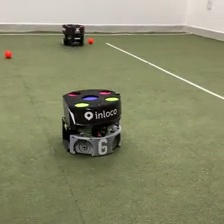ball: (3, 49, 12, 59), (87, 36, 94, 44)
robot: (60, 87, 122, 159), (61, 21, 86, 48)
